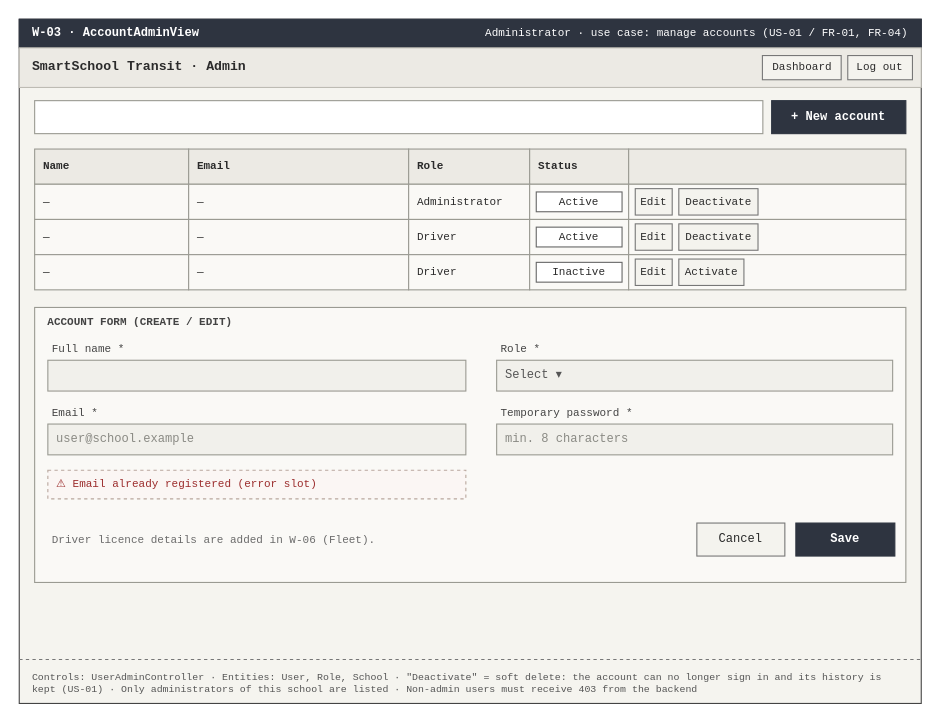
The diagram is 942 pixels wide and 723 high, and some of its shapes have lost their labels. The shapes that lost their labels are listed below. From the top down, each one's centre as x and y in pixels, then its label:
At pixel 398 117: "⌕ Search account…".
At pixel 767 166: "Actions".
